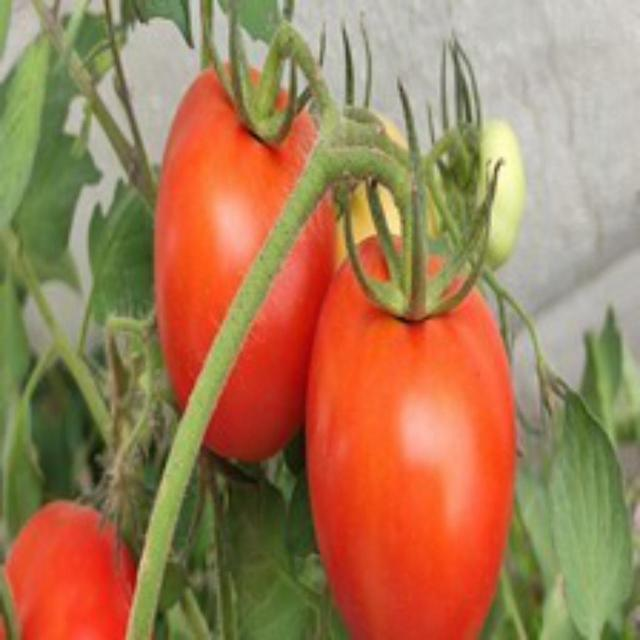tomato: (286, 243, 542, 637), (142, 54, 348, 484)
